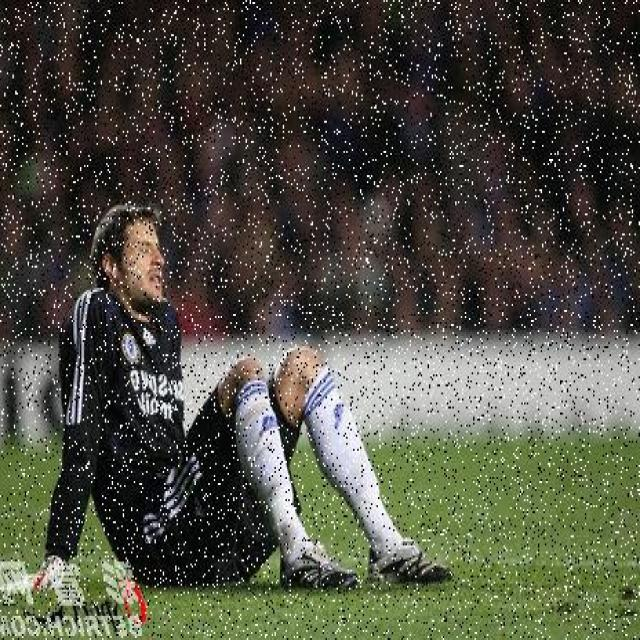fall: (45, 205, 452, 588)
